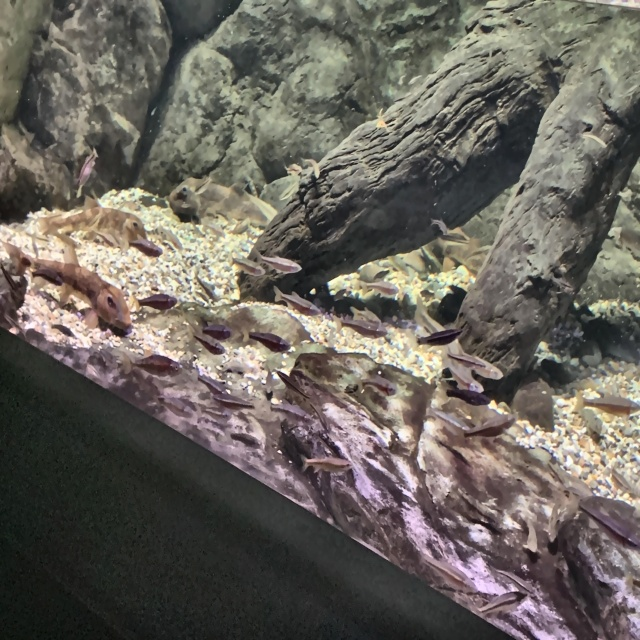fish: (3, 234, 145, 340), (34, 184, 163, 261), (169, 175, 283, 231), (425, 545, 507, 611), (410, 292, 466, 358), (444, 404, 527, 447), (441, 336, 511, 384), (432, 348, 498, 398), (580, 384, 639, 430), (202, 379, 259, 417), (334, 306, 392, 343), (120, 349, 185, 382), (271, 368, 327, 406), (356, 263, 404, 304), (475, 586, 528, 622), (269, 282, 317, 320), (253, 246, 306, 278), (298, 451, 354, 479), (246, 325, 290, 360), (413, 323, 467, 350), (198, 313, 236, 348), (185, 326, 227, 357), (74, 143, 100, 191), (544, 494, 566, 547), (156, 394, 195, 423), (519, 509, 541, 559), (226, 251, 265, 279), (152, 221, 185, 253), (131, 290, 179, 311), (121, 235, 164, 258), (193, 370, 228, 398), (580, 406, 609, 439), (357, 373, 397, 396), (605, 462, 630, 498), (349, 305, 381, 328), (277, 177, 300, 201), (300, 156, 321, 179), (429, 214, 449, 238), (283, 163, 303, 178), (332, 287, 348, 305)
